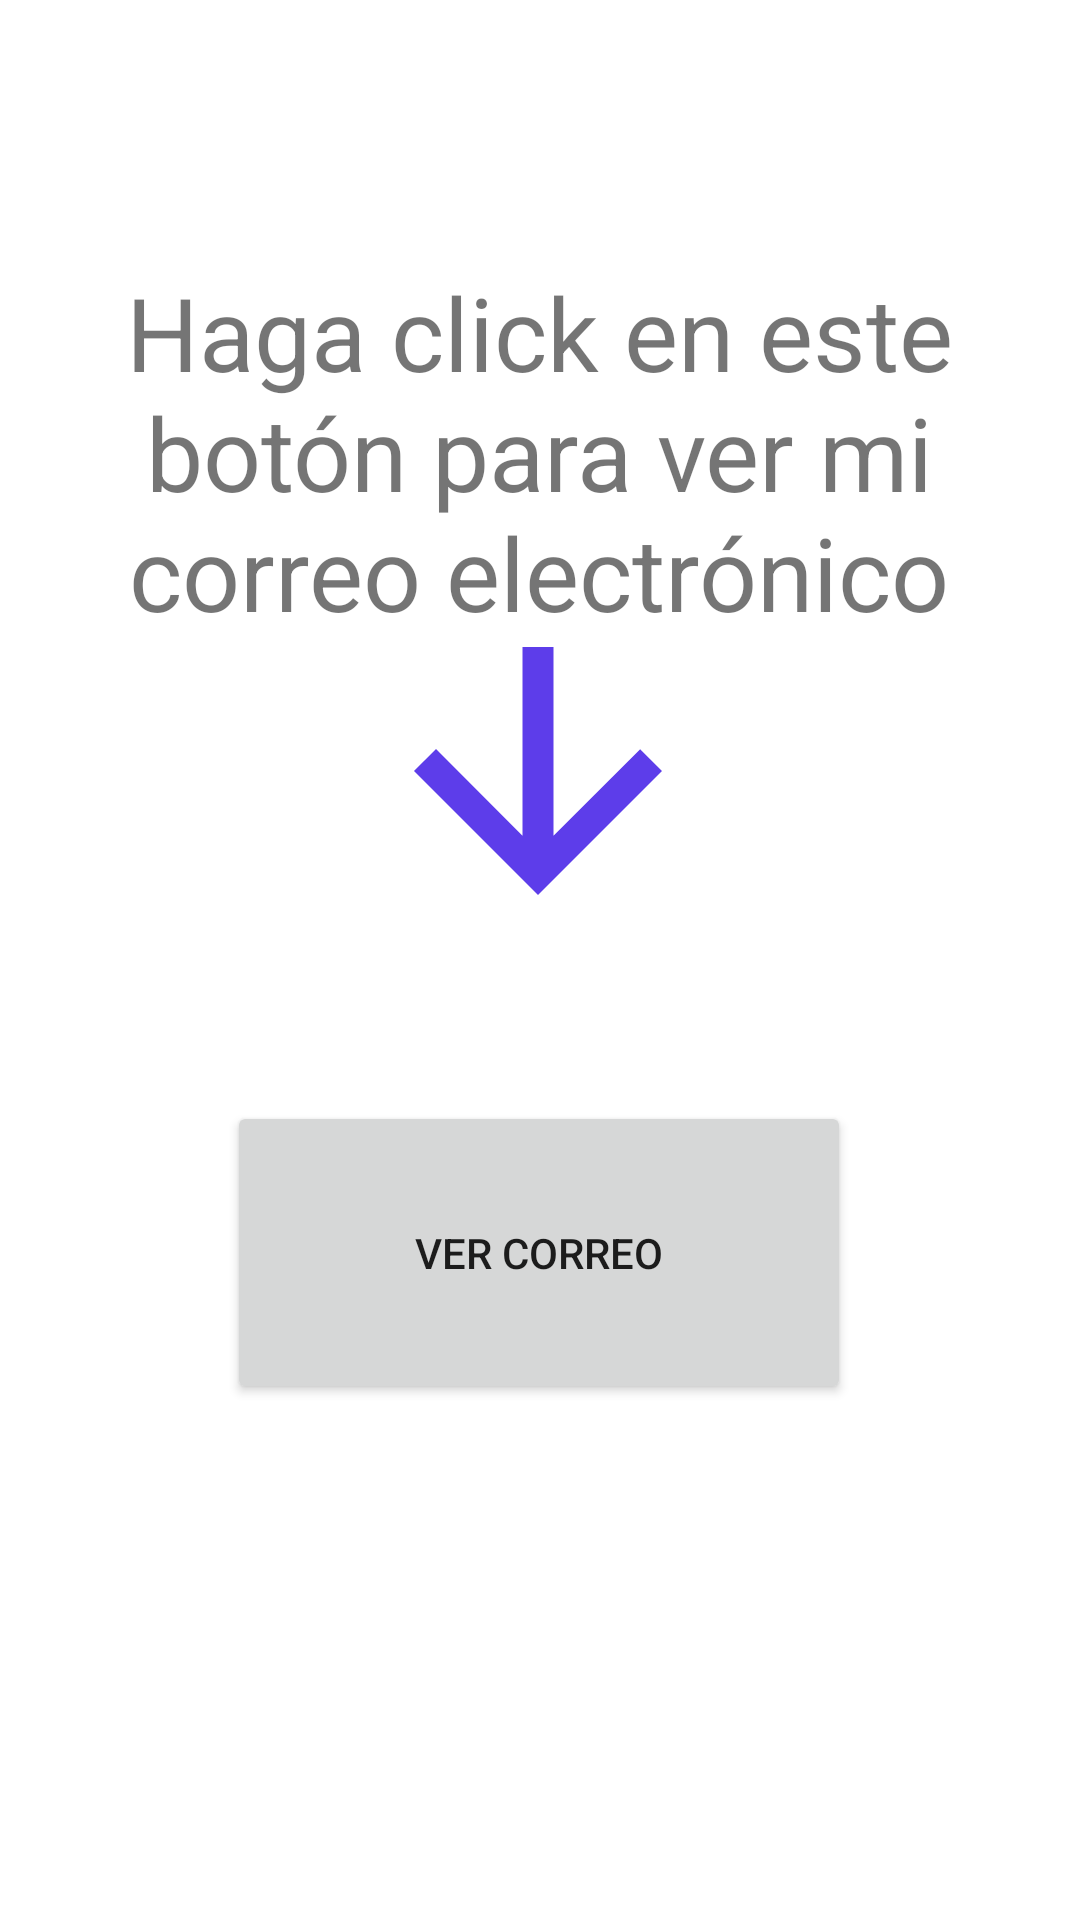

Icon click points for this 1080px×1920px phone screenshot, format (x=x, y=y):
flecha: (x=538, y=771)
